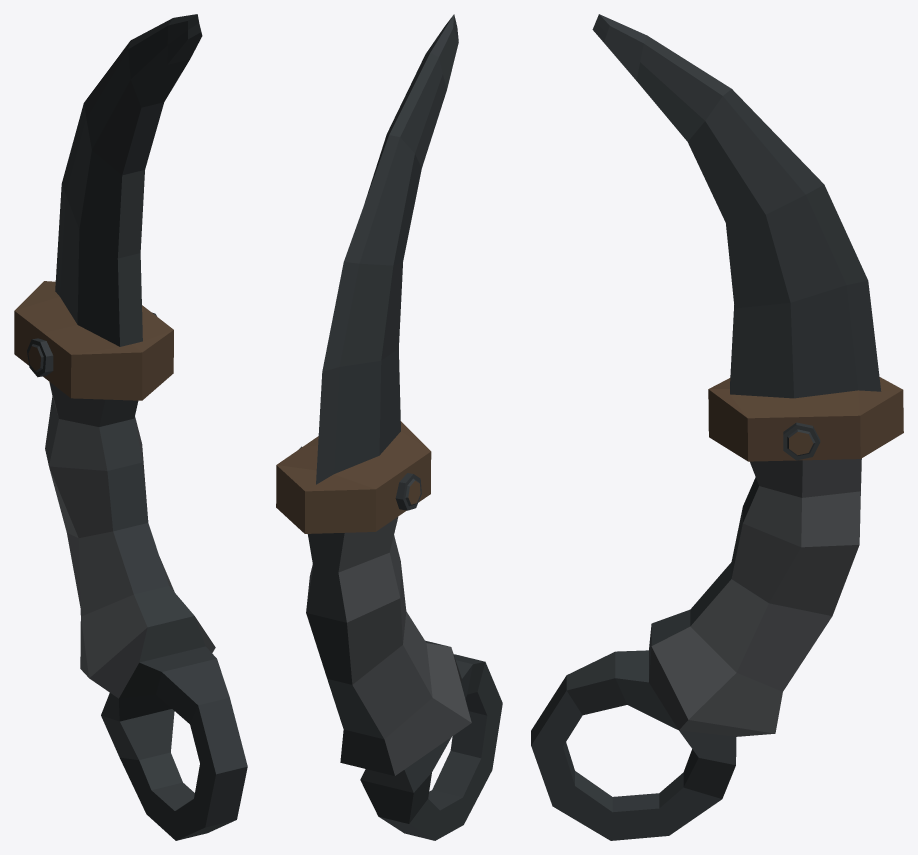
The model's file is karambit.obj.
3 renders of one model, left to right at view 1: azimuth 30°, elevation 25°; view 2: azimuth 150°, elevation 25°; view 3: azimuth 270°, elevation 25°, orthographic. The views are drawn at different scales.
Parts seen in each view (by area): view 1: Cube_Cube.001; view 2: Cube_Cube.001; view 3: Cube_Cube.001.
Part boxes in pixels (<box>): Cube_Cube.001: <box>14,14,247,840</box>; Cube_Cube.001: <box>276,14,502,840</box>; Cube_Cube.001: <box>531,14,903,840</box>.
Bounding box in the file's own units: 0.0666 × 0.416 × 0.1715.
